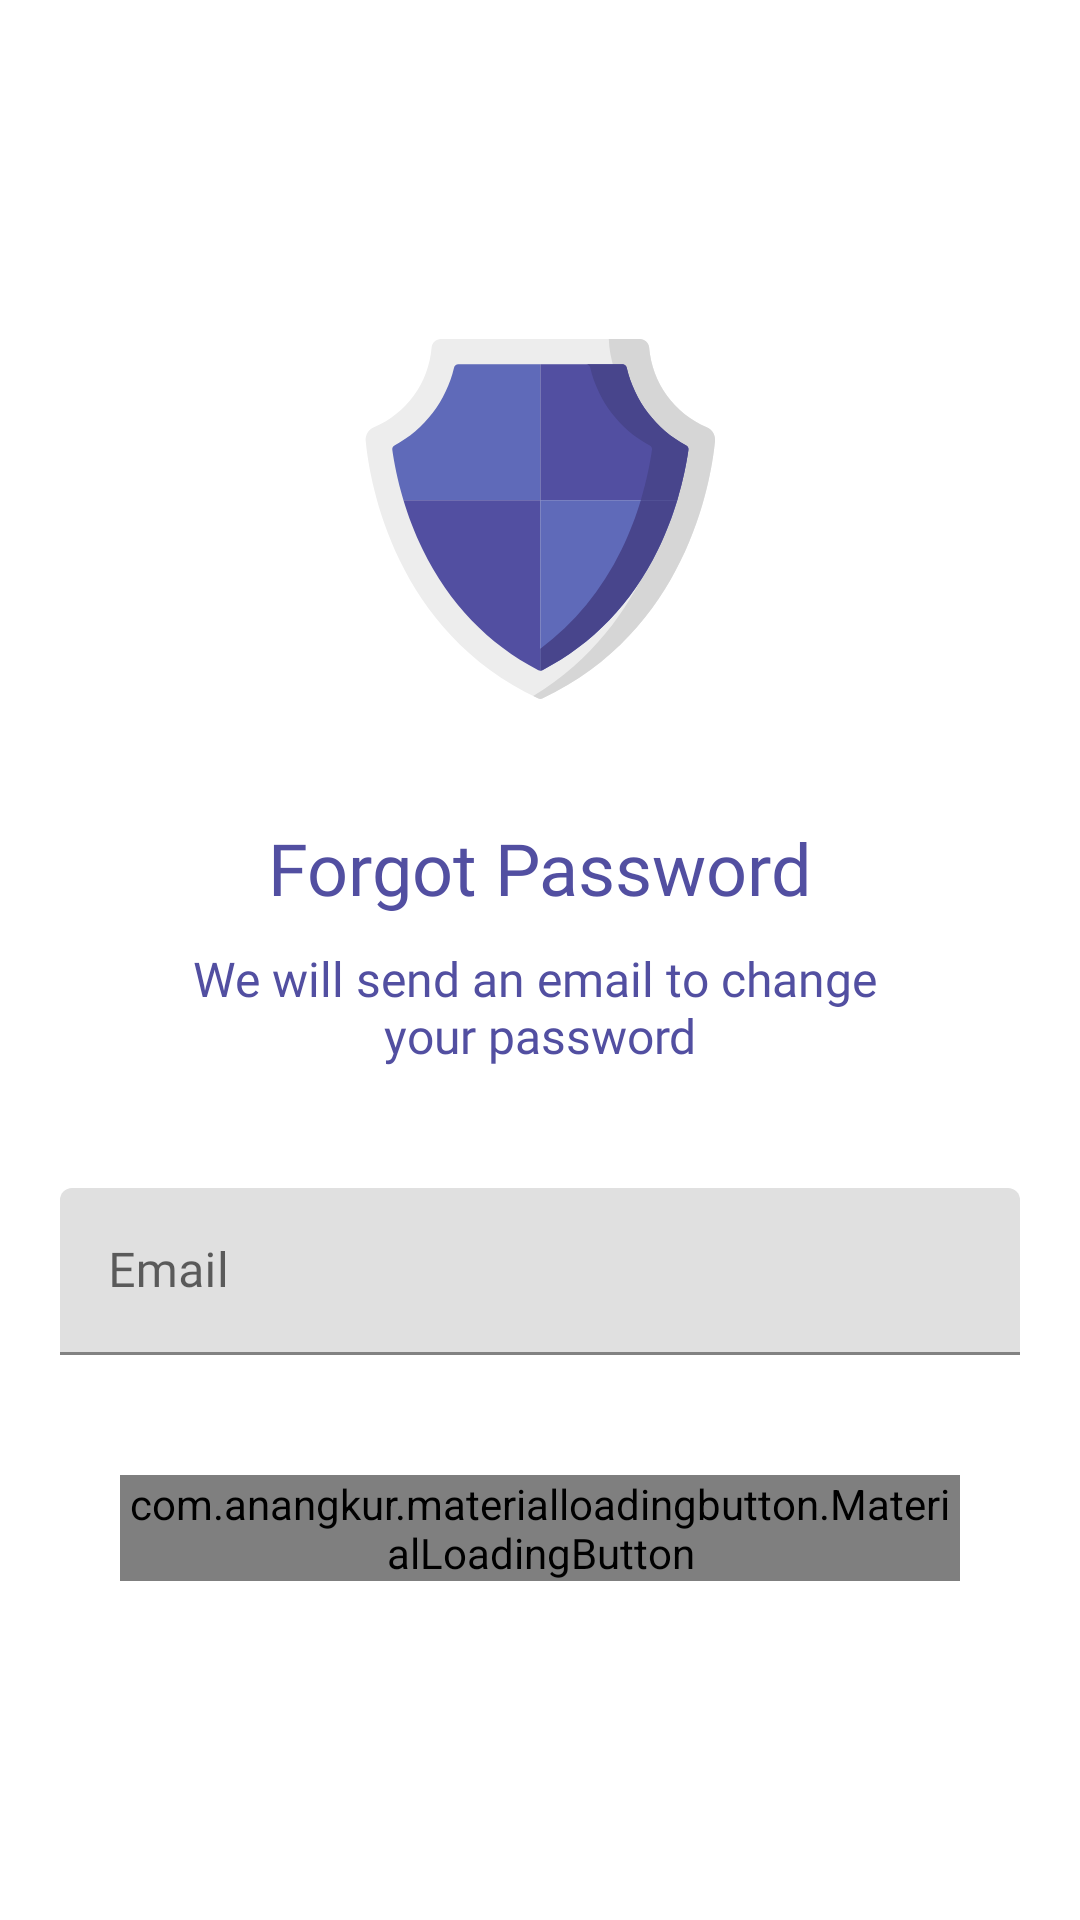

Icons on this 1080 x 1920 Android screen, each with the point to tap as [x,y]:
shield: [553,519]
